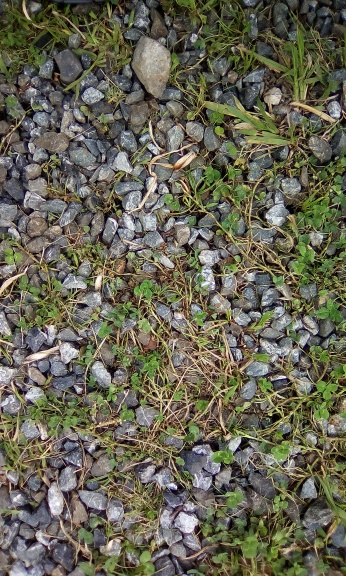4leaf: (133, 280, 153, 299)
